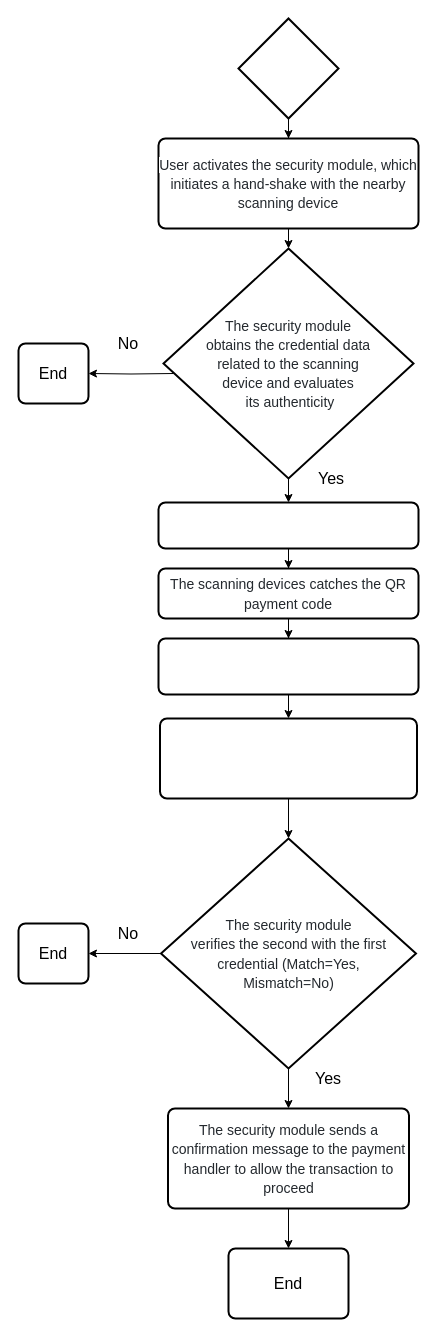
Image size: 436x1336. Some labels were removed from this diagram. Each missing label, with the box of its shape:
Another message is sent to the security module, identifying its credentials: (158, 717, 418, 799)
Start: (237, 17, 339, 119)
The QR payment code is displayed: (157, 501, 419, 549)
The QR payment code is removed from display: (157, 637, 419, 695)
